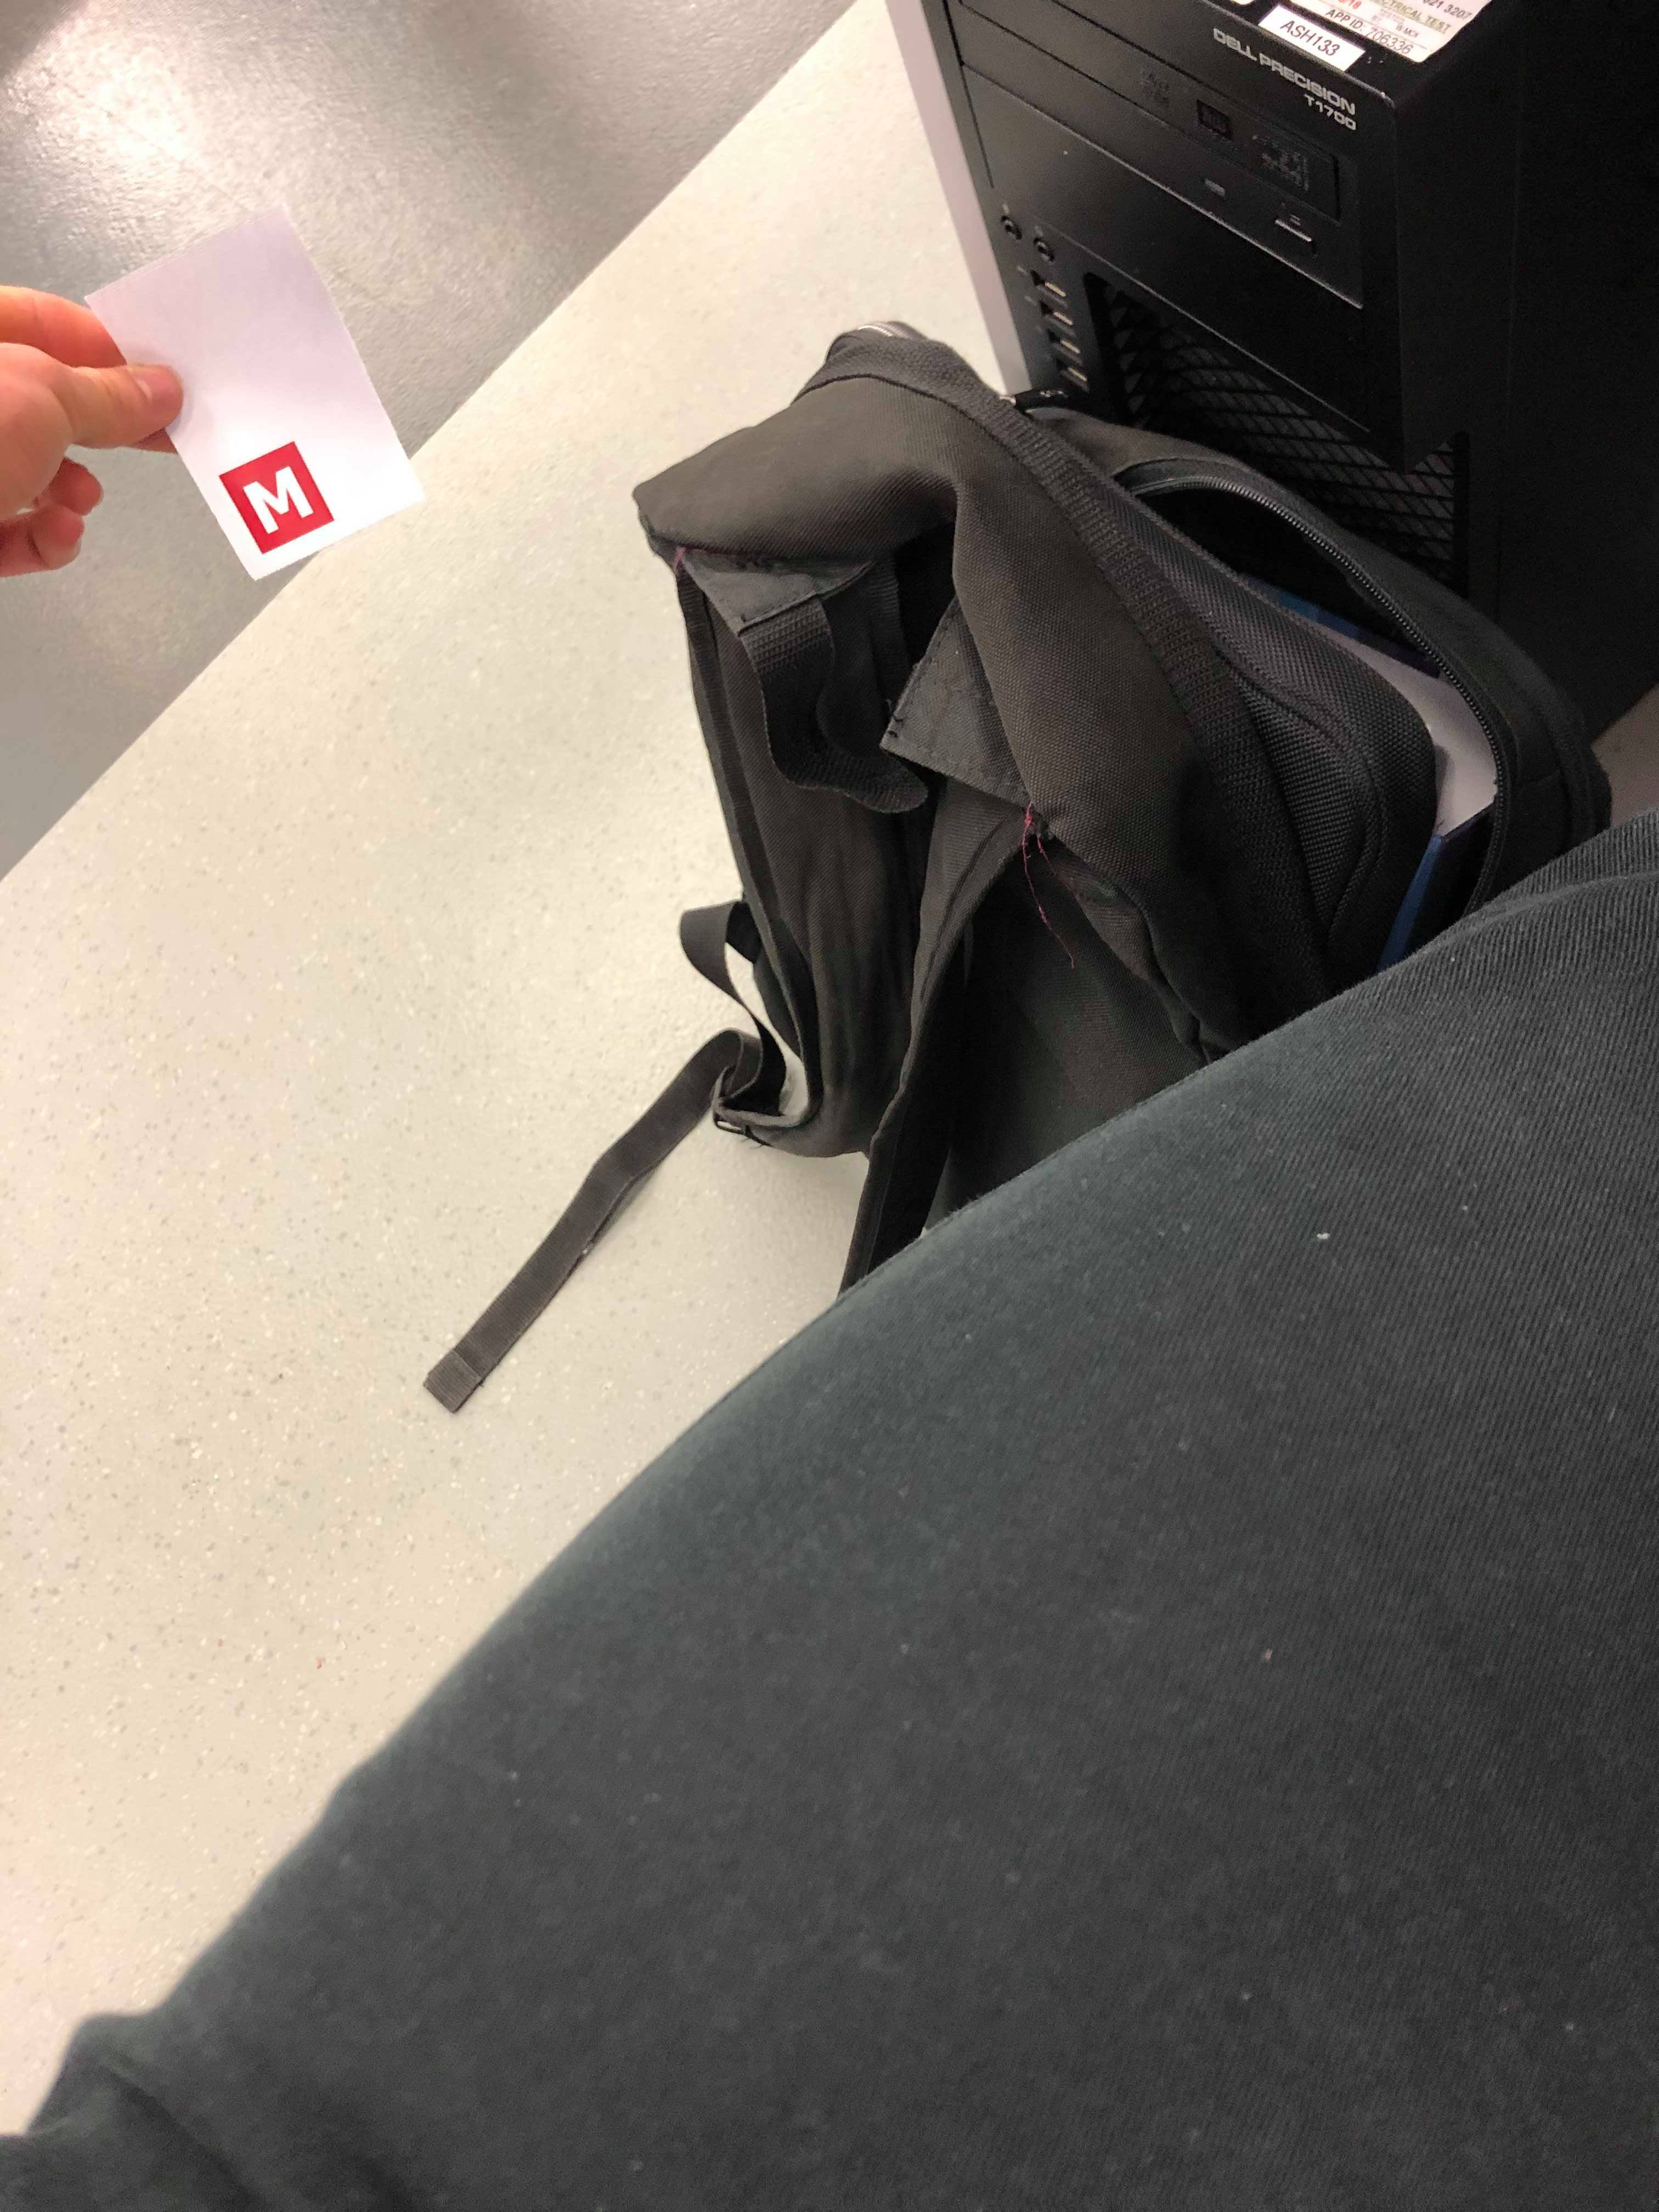red marker: (221, 437, 343, 568)
